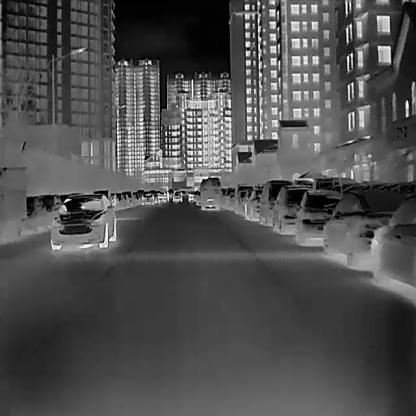car: (322, 194, 408, 267), (370, 191, 416, 288), (50, 192, 116, 249), (294, 191, 344, 246), (272, 186, 316, 234), (259, 180, 292, 225), (26, 195, 47, 234), (42, 192, 61, 226), (245, 191, 263, 220), (141, 191, 154, 206), (172, 189, 183, 203), (157, 194, 168, 207)
truck: (0, 165, 27, 243), (199, 177, 220, 211)
